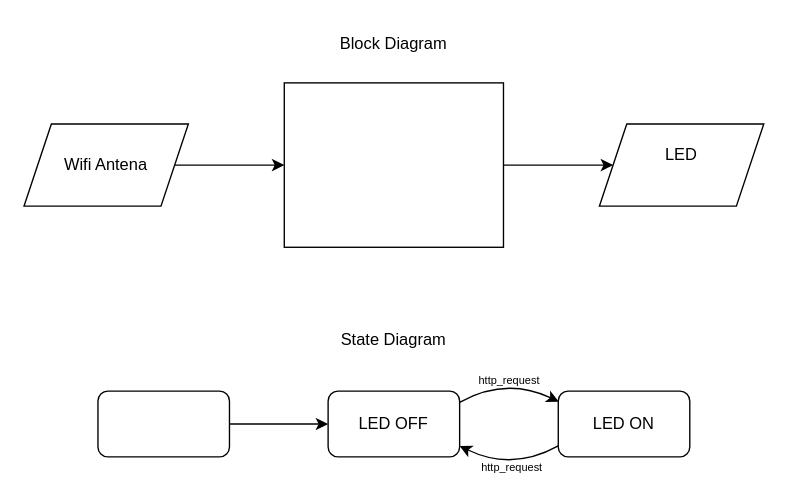
This 788x499 diagram has some shape labels left out. Here are the shapes that lost their labels. From the top down, the centre of each, then its label:
At pixel 393 164: "ESP32-S3".
At pixel 163 423: "START".
